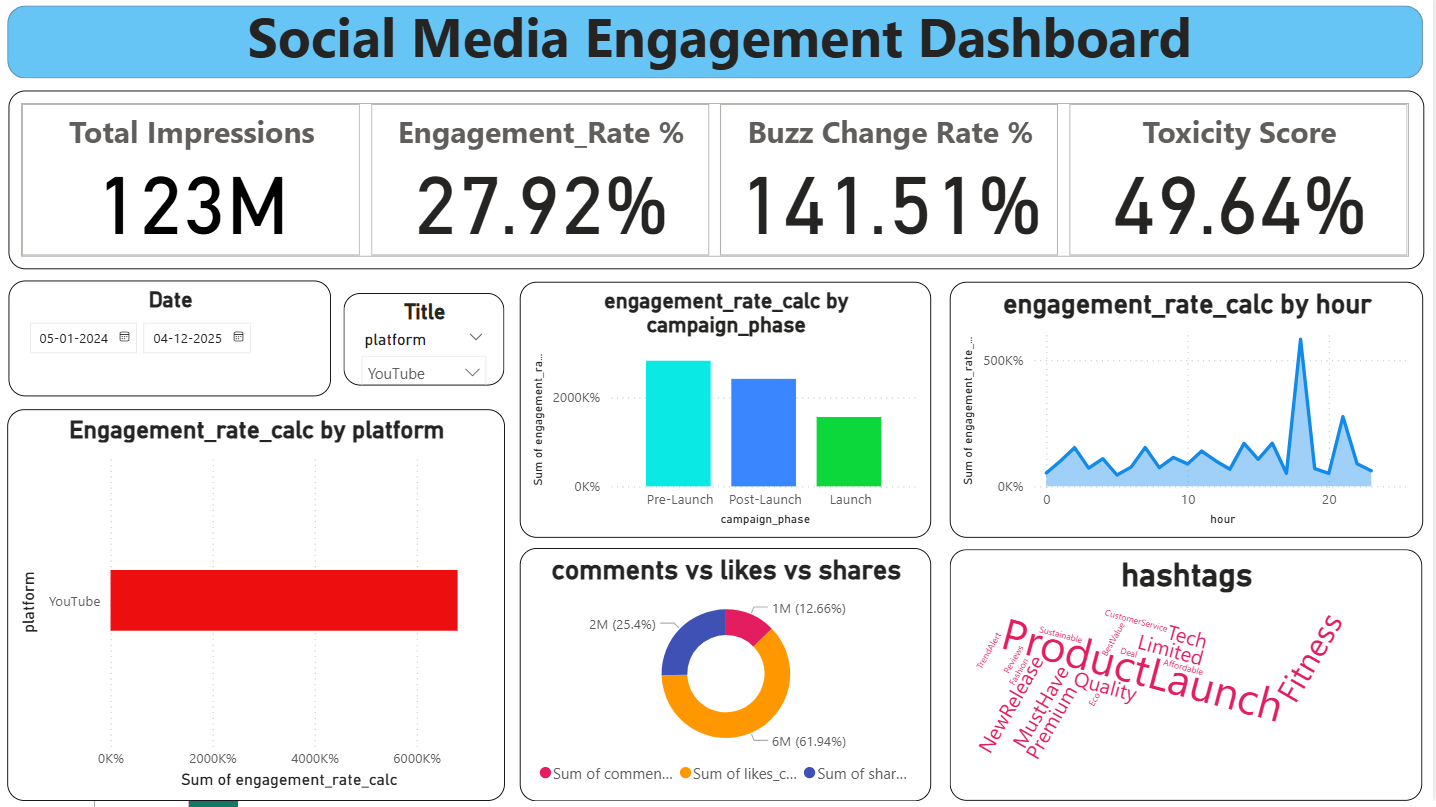

This screenshot's page, from the dashboard's own definition file:
{"tool":"powerbi","page":{"name":"Page 1","canvas":[1280,720],"ordinal":0},"visuals":[{"type":"cardVisual","title":"Total Impressions","fields":{"Data":["Sum(Social Media Engagement Analysis.impressions)","Social Media Engagement Analysis.Engagement_Rate %","Social Media Engagement Analysis.Buzz Change Rate %","Avg(Social Media Engagement Analysis.toxicity_score)"]},"box":[11,86.4,1261.1,159.2],"z":0},{"type":"shape","box":[9.7,11.1,1260.9,65.1],"z":1000},{"type":"textbox","box":[19.4,0,1251.2,85.8],"z":2000},{"type":"clusteredBarChart","title":" Engagement_rate_calc by platform","fields":{"Category":["Social Media Engagement Analysis.platform"],"Y":["Sum(Social Media Engagement Analysis.engagement_rate_calc)"]},"box":[9.7,370.9,442.9,348.8],"z":3000},{"type":"clusteredColumnChart","title":" engagement_rate_calc by campaign_phase","fields":{"Category":["Social Media Engagement Analysis.campaign_phase"],"Y":["Sum(Social Media Engagement Analysis.engagement_rate_calc)"]},"box":[466.6,256.6,366.4,227.8],"z":4000},{"type":"lineChart","title":" engagement_rate_calc by hour","fields":{"Y":["Sum(Social Media Engagement Analysis.engagement_rate_calc)"],"Category":["Social Media Engagement Analysis.hour"]},"box":[849.4,256.6,421.3,227.8],"z":5000},{"type":"WordCloud1447959067750","fields":{"Category":["Social Media Engagement Analysis.hashtags"]},"box":[849.8,495.5,420.8,224.2],"z":6000},{"type":"slicer","title":"Date","fields":{"Values":["Social Media Engagement Analysis.date"]},"box":[11.2,256.3,287.4,103.2],"z":7000},{"type":"slicer","title":"Title","fields":{"Values":["Social Media Engagement Analysis.platform"]},"box":[309.7,267.5,143.1,82.1],"z":8000},{"type":"donutChart","title":"comments vs likes vs  shares","fields":{"Y":["Sum(Social Media Engagement Analysis.comments_count)","Sum(Social Media Engagement Analysis.likes_count)","Sum(Social Media Engagement Analysis.shares_count)"]},"box":[466.4,494.1,366.8,225.6],"z":9000}]}

Visuals, with their boxes in screenshot pixels (x1, y1, x2, y2), scaled from the page's 1280x720 canvas onto the 1436x807 screenshot:
"Total Impressions" cardVisual: [left=12, top=97, right=1427, bottom=275]
shape: [left=11, top=12, right=1425, bottom=85]
textbox: [left=22, top=0, right=1425, bottom=96]
" Engagement_rate_calc by platform" clusteredBarChart: [left=11, top=416, right=508, bottom=806]
" engagement_rate_calc by campaign_phase" clusteredColumnChart: [left=523, top=288, right=935, bottom=543]
" engagement_rate_calc by hour" lineChart: [left=953, top=288, right=1426, bottom=543]
WordCloud1447959067750 - Social Media Engagement Analysis.hashtags: [left=953, top=555, right=1425, bottom=806]
"Date" slicer: [left=13, top=287, right=335, bottom=403]
"Title" slicer: [left=347, top=300, right=508, bottom=392]
"comments vs likes vs  shares" donutChart: [left=523, top=554, right=935, bottom=806]
